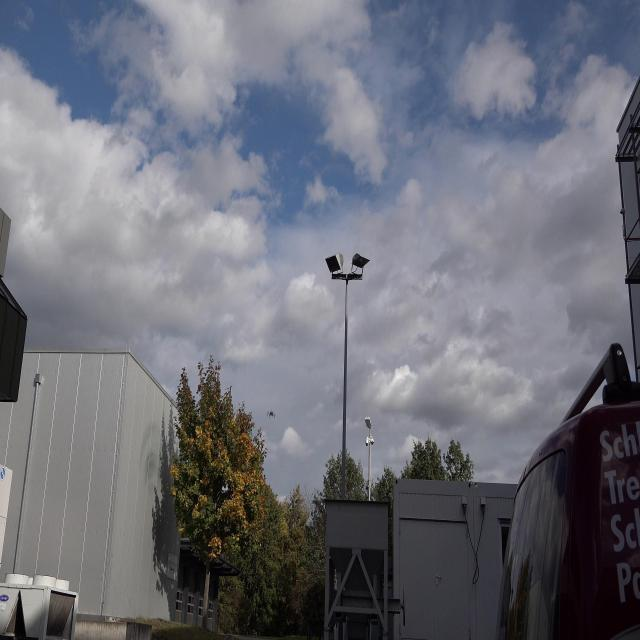drone: (265, 404, 280, 427)
